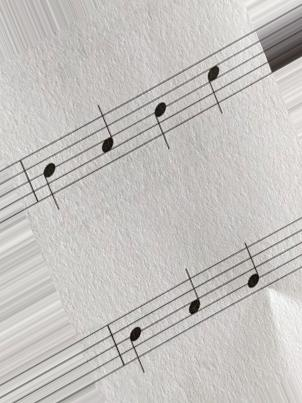note: (176, 262, 205, 336), (40, 142, 67, 215), (150, 84, 176, 155), (203, 51, 229, 119), (237, 239, 265, 301), (92, 105, 119, 169), (127, 307, 148, 384)
